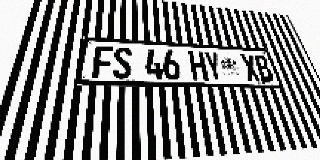4: (145, 48, 164, 80)
6: (162, 49, 181, 80)
B: (253, 55, 275, 82)
F: (92, 46, 113, 79)
H: (188, 51, 209, 81)
S: (113, 47, 131, 79)
X: (239, 54, 261, 82)
Y: (203, 52, 224, 81)
